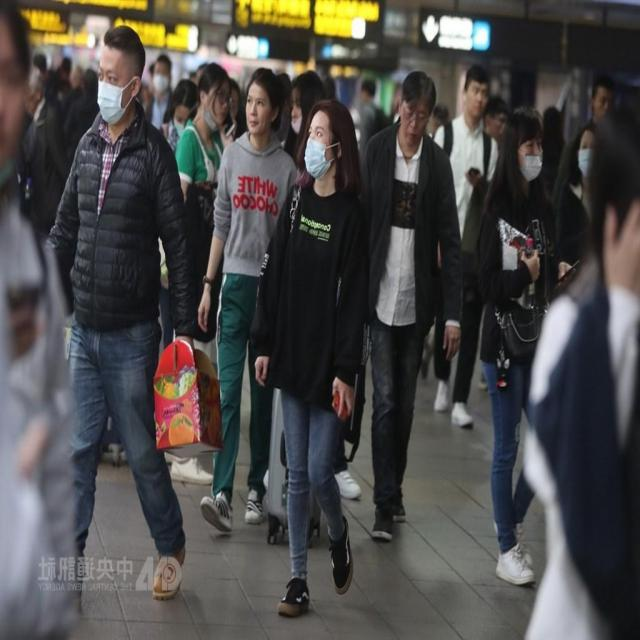face: (94, 21, 149, 132), (1, 13, 30, 193), (302, 95, 357, 189), (504, 104, 550, 184), (245, 65, 286, 142), (398, 71, 436, 152), (198, 60, 236, 136), (461, 65, 496, 121), (588, 70, 620, 126), (574, 119, 598, 182), (171, 102, 195, 141), (151, 59, 172, 97)
